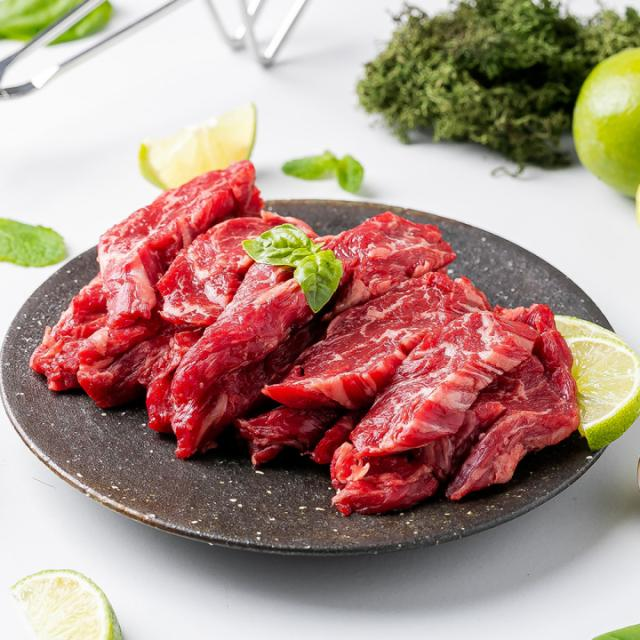beef: (374, 330, 522, 459), (122, 263, 262, 388)
